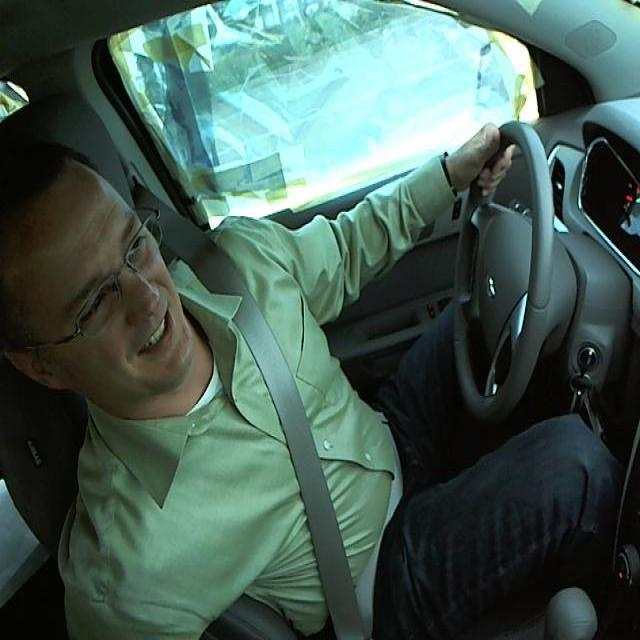seatbelt: (210, 298, 403, 626)
